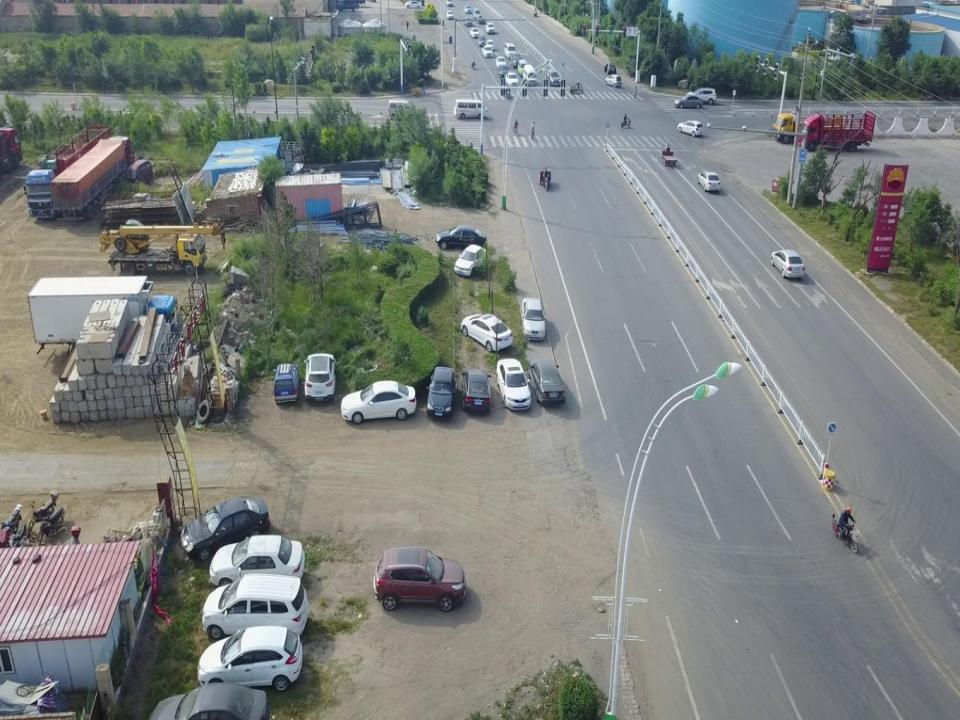car: (195, 576, 311, 643), (195, 627, 303, 696), (203, 525, 309, 594), (368, 547, 468, 615), (179, 495, 279, 559), (147, 684, 273, 720), (338, 376, 419, 424), (457, 309, 517, 355), (496, 353, 534, 415), (528, 354, 567, 407), (302, 350, 338, 403), (424, 363, 458, 418), (434, 221, 486, 252), (460, 369, 494, 416), (270, 360, 302, 406), (768, 246, 805, 282), (519, 292, 546, 340), (455, 240, 486, 279), (696, 170, 723, 192), (672, 93, 703, 111), (676, 121, 705, 138), (692, 86, 716, 105), (502, 42, 518, 60), (604, 72, 621, 88), (546, 70, 562, 86), (509, 49, 522, 68), (601, 62, 617, 74), (481, 42, 493, 58), (497, 64, 511, 77), (494, 54, 507, 68), (404, 0, 423, 9), (506, 72, 518, 86), (485, 20, 495, 36), (470, 26, 480, 40), (485, 38, 494, 52), (472, 7, 482, 19), (478, 33, 486, 47), (463, 14, 472, 26), (475, 14, 486, 23), (463, 2, 472, 13), (445, 9, 454, 20), (446, 0, 453, 7)
truck: (21, 121, 113, 218), (53, 132, 137, 225), (797, 105, 876, 150), (771, 109, 845, 145)
van: (124, 158, 156, 190), (384, 97, 416, 122), (452, 99, 488, 121), (522, 63, 538, 89), (515, 58, 529, 78)
